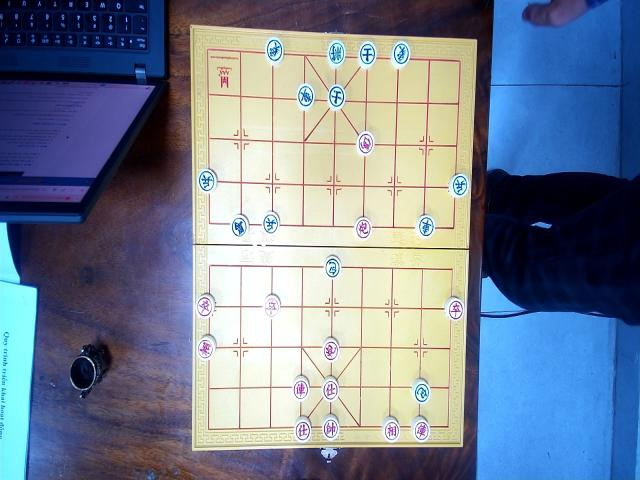piece: (448, 171, 469, 199), (390, 39, 410, 68), (326, 39, 346, 67), (410, 415, 430, 442), (196, 334, 216, 361), (410, 378, 430, 405), (381, 415, 400, 442), (266, 36, 284, 64), (444, 296, 464, 321), (197, 168, 217, 193), (195, 292, 214, 318), (355, 130, 374, 156), (294, 416, 312, 443), (322, 337, 340, 364), (292, 374, 310, 401), (358, 41, 376, 68), (296, 83, 314, 110), (415, 215, 435, 239), (353, 215, 372, 240), (322, 415, 339, 441), (321, 376, 338, 402), (230, 214, 248, 238), (262, 212, 280, 236), (263, 293, 280, 318), (328, 82, 344, 108), (324, 254, 341, 278)
